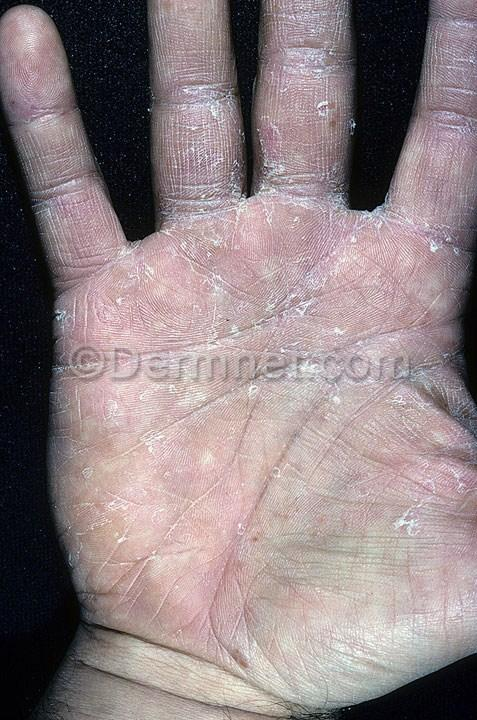Eczema: (250, 400, 472, 641), (41, 388, 250, 641), (60, 261, 347, 346), (351, 228, 469, 356), (243, 170, 353, 261), (251, 81, 350, 179), (249, 0, 352, 92), (153, 68, 235, 182), (157, 187, 240, 266), (42, 205, 123, 278), (413, 76, 477, 166), (160, 0, 237, 74), (0, 15, 63, 105), (11, 114, 85, 188), (391, 160, 472, 219), (434, 6, 477, 85)
